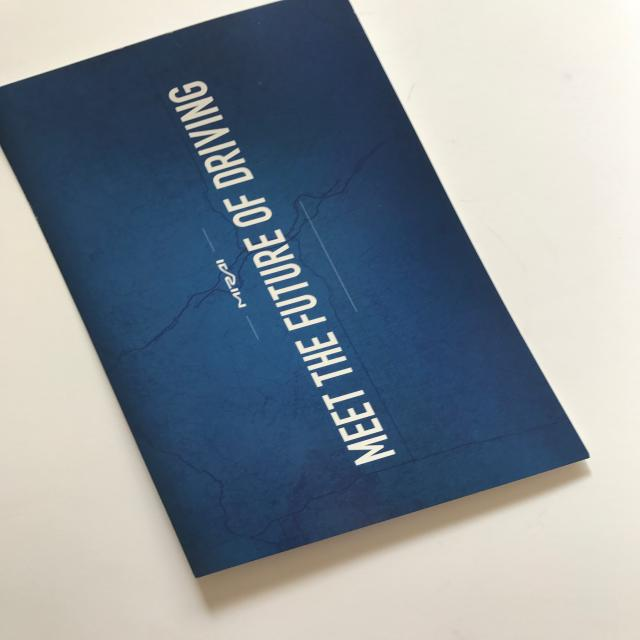paper: (1, 0, 591, 579)
